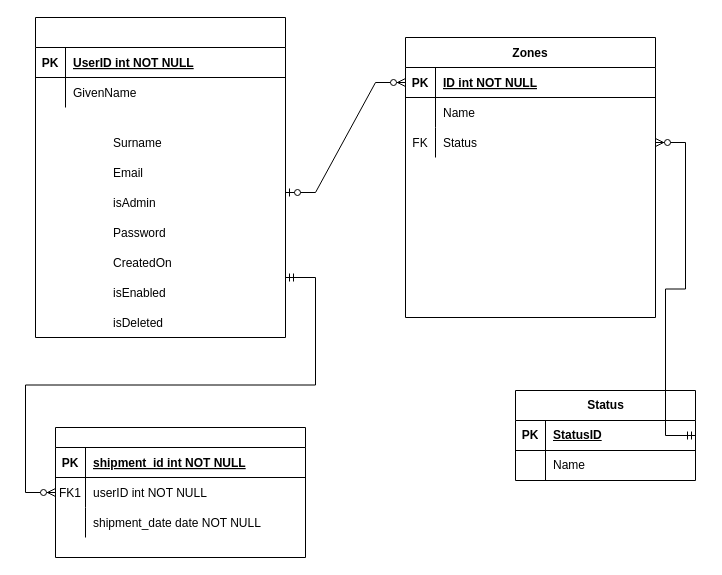
This 722x575 diagram has some shape labels left out. The box of each missing label's shape, as (x1, y1, x2, y2) in pixels:
Historique: (54, 426, 306, 558)
Users: (34, 16, 286, 338)
